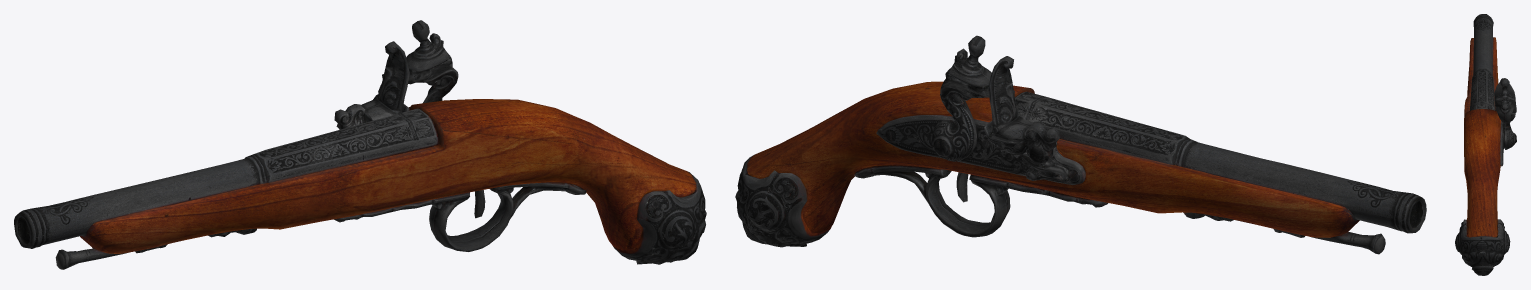
File: flintlock.gltf
3 renders of one model, left to right at view 1: azimuth 30°, elevation 25°; view 2: azimuth 150°, elevation 25°; view 3: azimuth 270°, elevation 25°, orthographic. The views are drawn at different scales.
Parts seen in each view (by area): view 1: Object_2; view 2: Object_2; view 3: Object_2.
Boxes of the visible parts, left/top/right/bottom form: Object_2: left=14, top=20, right=706, bottom=269; Object_2: left=735, top=35, right=1426, bottom=254; Object_2: left=1455, top=14, right=1516, bottom=275.
Bounding box in the file's own units: 5.58 × 2.2 × 0.8793.
Materials: 1 (1 with a texture image).
